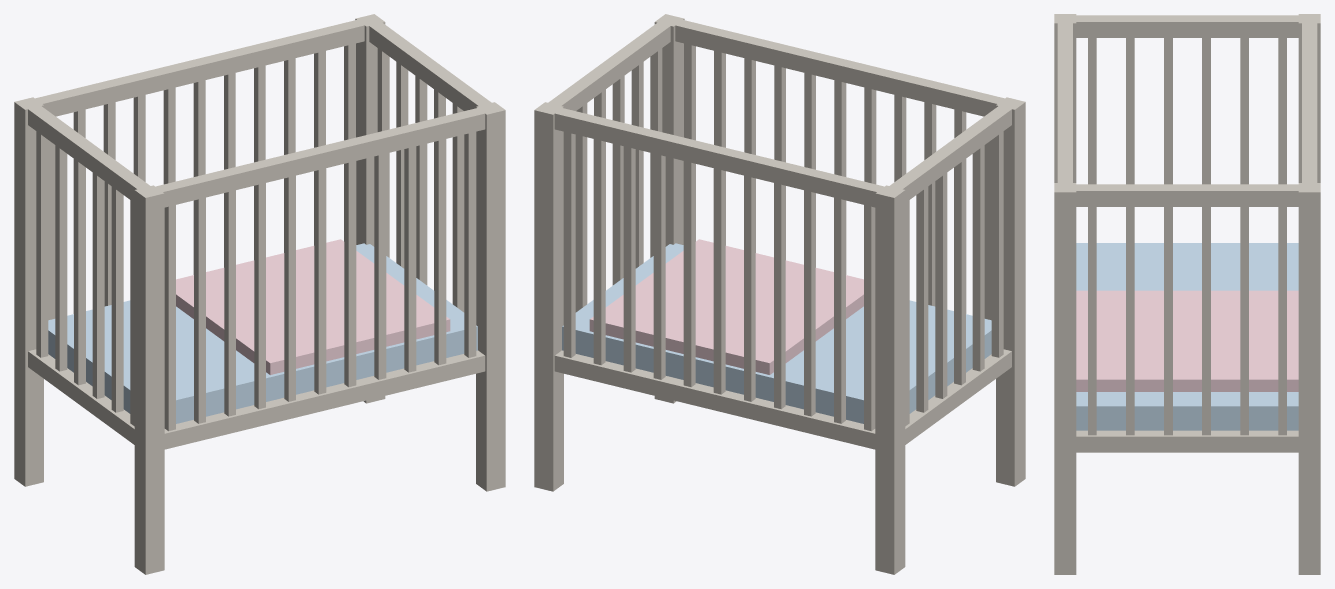
The model's file is crib.glb.
The picture shows the model from 3 angles, left to right: view 1: azimuth 30°, elevation 25°; view 2: azimuth 150°, elevation 25°; view 3: azimuth 270°, elevation 25°; orthographic projection.
Parts seen in each view (by area): view 1: crib; view 2: crib; view 3: crib.
Boxes of the visible parts, bbox=[...] form: crib: bbox=[14, 14, 505, 574]; crib: bbox=[534, 14, 1025, 574]; crib: bbox=[1054, 14, 1320, 574].
Bounding box in the file's own units: 0.95 × 0.95 × 0.6.
